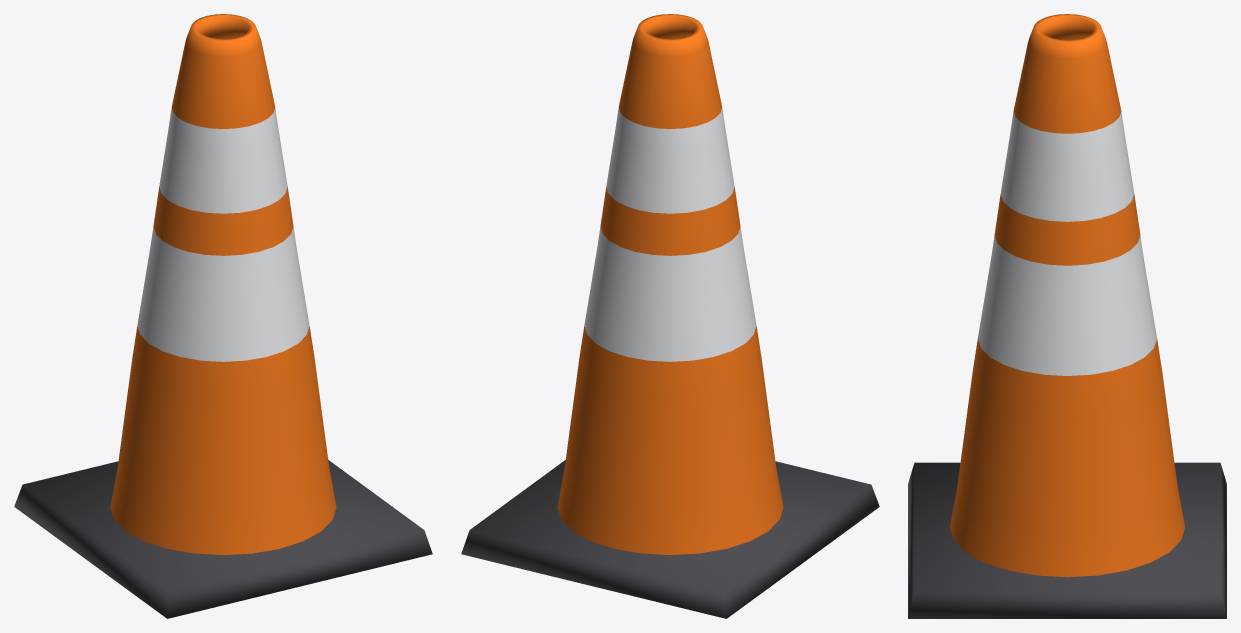
File: 03_Trafik_Konisi_Duba.fbx
3 views of the same model, side by side, from view 1: azimuth 30°, elevation 25°; view 2: azimuth 150°, elevation 25°; view 3: azimuth 270°, elevation 25° (orthographic). The views are drawn at different scales.
Parts seen in each view (by area): view 1: 03_Trafik_Konisi_Duba; view 2: 03_Trafik_Konisi_Duba; view 3: 03_Trafik_Konisi_Duba.
Part boxes in pixels (<box>): 03_Trafik_Konisi_Duba: <box>14,14,432,618</box>; 03_Trafik_Konisi_Duba: <box>461,14,879,618</box>; 03_Trafik_Konisi_Duba: <box>908,14,1226,618</box>.
Bounding box in the file's own units: 42 × 76 × 42.
